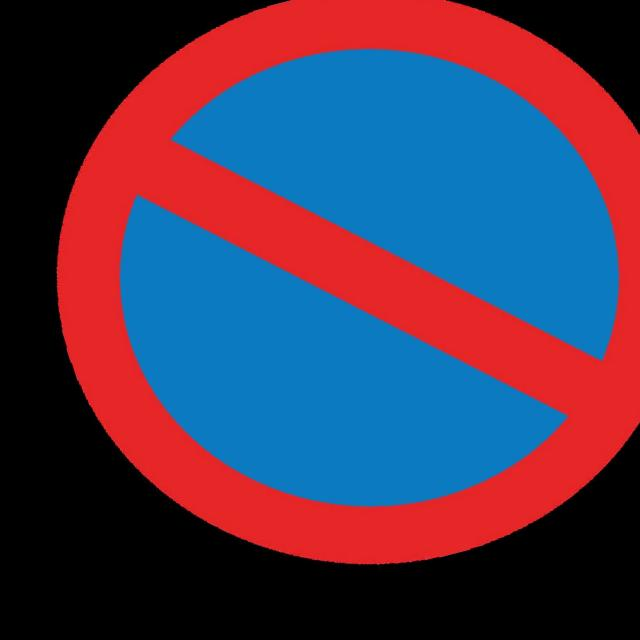forb_stopping: (57, 0, 637, 560)
